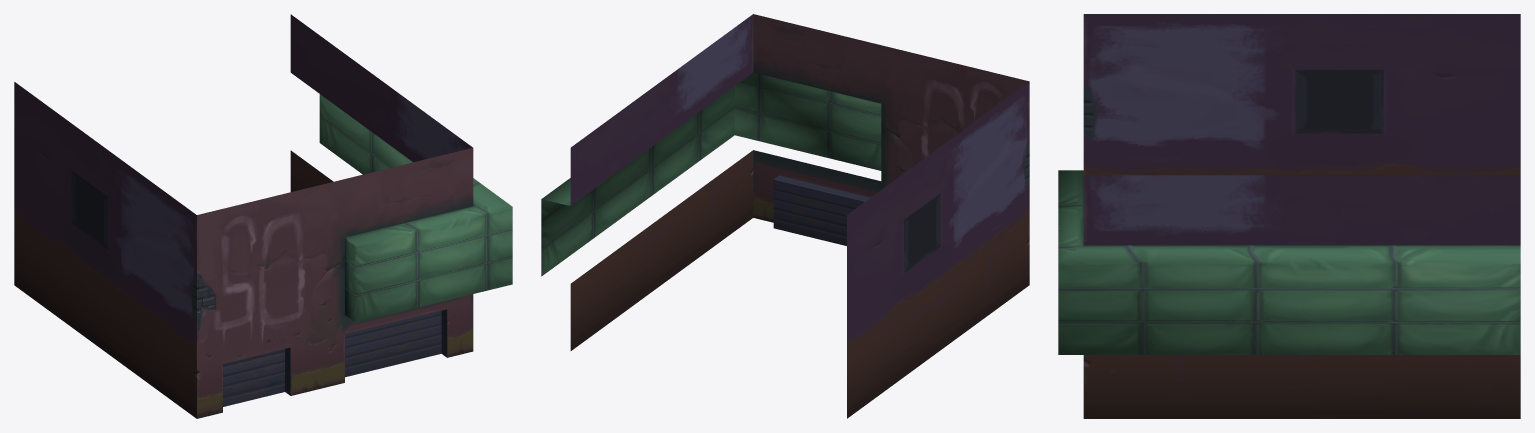
3 renders of one model, left to right at view 1: azimuth 30°, elevation 25°; view 2: azimuth 150°, elevation 25°; view 3: azimuth 270°, elevation 25°, orthographic. The views are drawn at different scales.
Visible parts, largest first — view 1: wj_fz07; view 2: wj_fz07; view 3: wj_fz07.
Boxes of the visible parts, x1,y1,x2,y2 form: wj_fz07: [14, 14, 512, 418]; wj_fz07: [541, 14, 1029, 418]; wj_fz07: [1058, 14, 1520, 418].
Size of the model in its own units: 2283 by 2502 by 1456.
